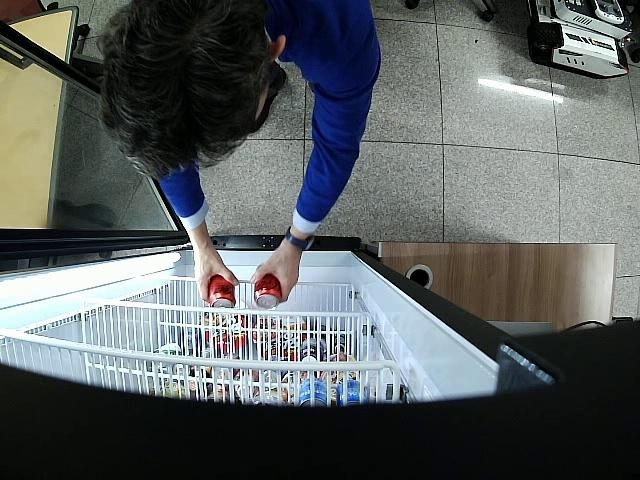00_hand: (249, 244, 299, 304), (194, 242, 238, 302)
11_cocaColaZero: (255, 272, 281, 309), (208, 275, 235, 307)
